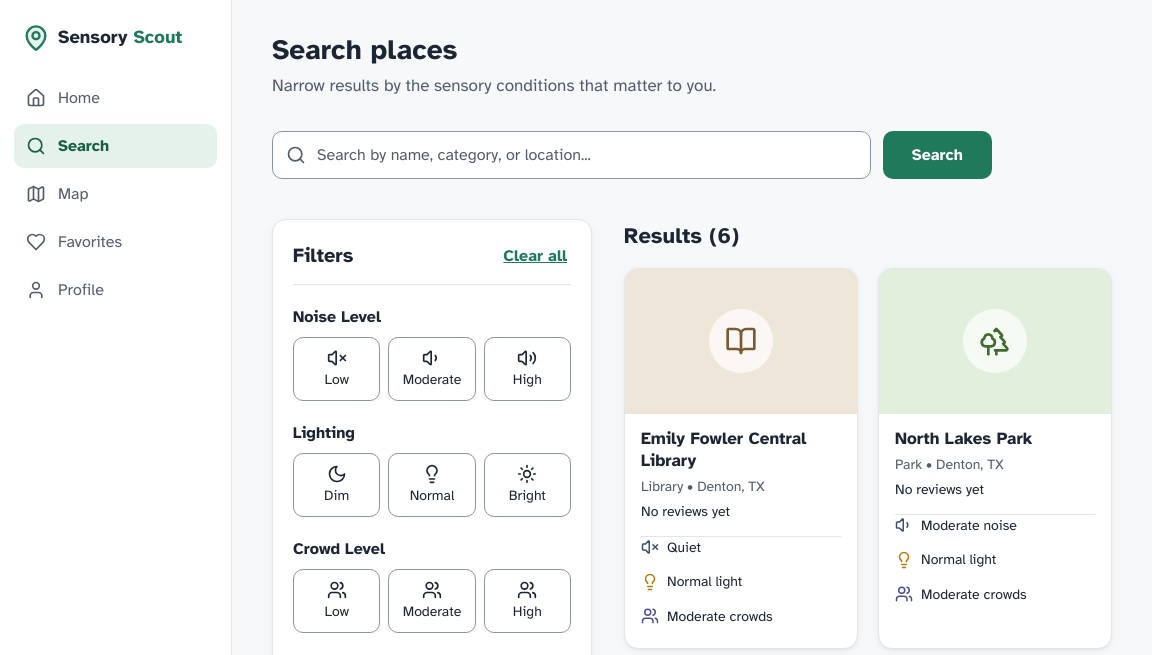
Test case: SearchPage › TC-SEARCH-17: selecting filters narrows the results and updates the count
Click the button "Low" below "Noise Level": (337, 368) top-left (293, 336), bottom-right (380, 400)
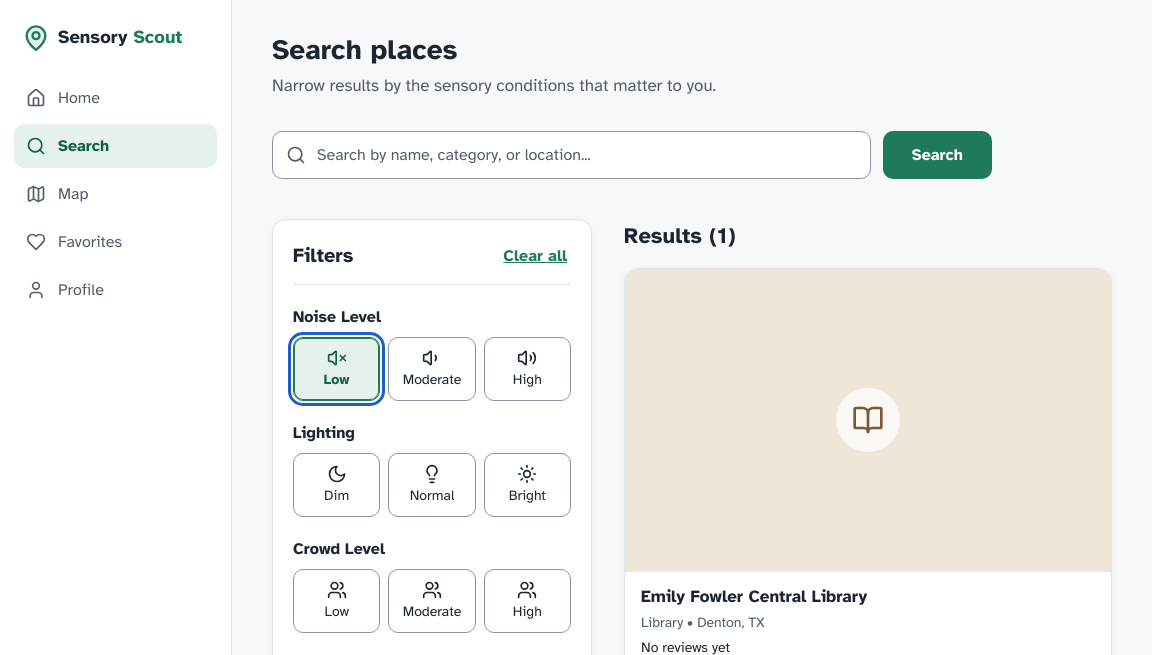
Click the button "Dim": (337, 484) top-left (293, 452), bottom-right (380, 516)
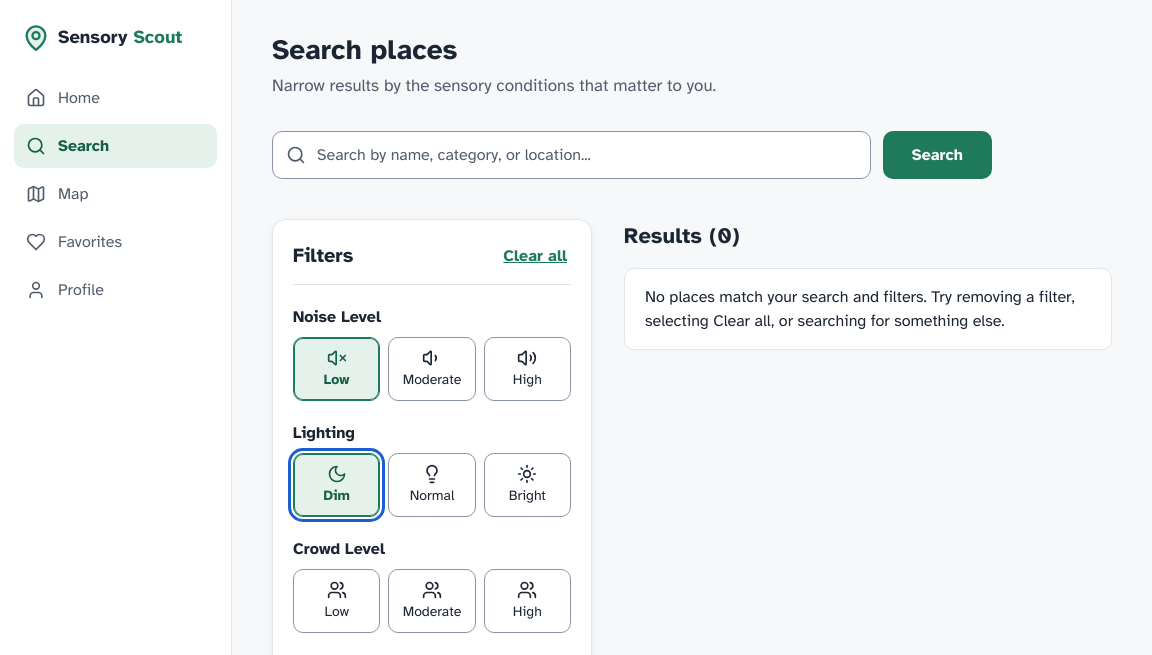
Result: the text "No places match your search and filters. Try removing a filter, selecting Clear all, or searching for something else." is shown at top-left (645, 286), bottom-right (1075, 330)
